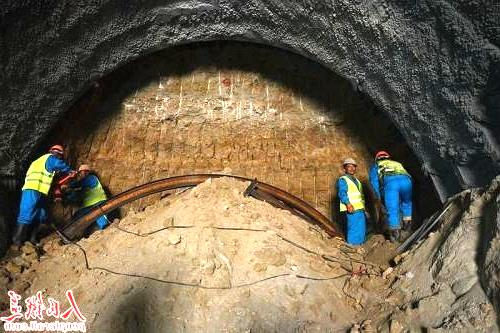helmet: (342, 157, 358, 175), (76, 164, 90, 179), (49, 144, 64, 157), (374, 150, 390, 162)
